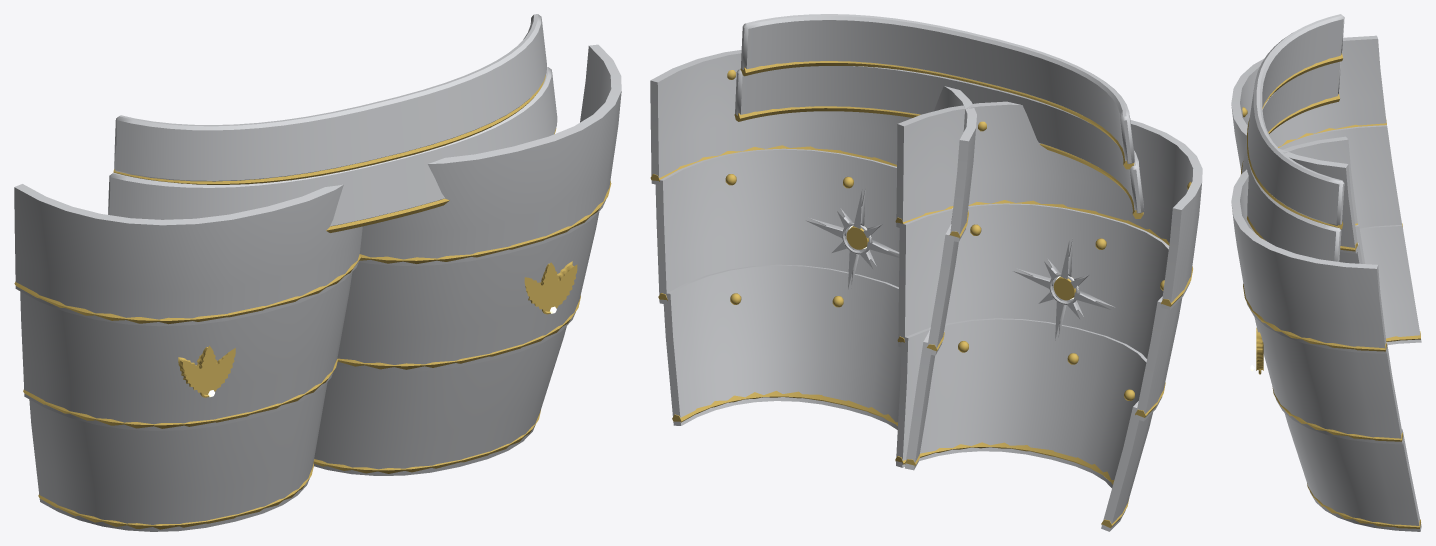
File: esc_final_dawn_executor_leggings.glb
The picture shows the model from 3 angles, left to right: view 1: azimuth 30°, elevation 25°; view 2: azimuth 150°, elevation 25°; view 3: azimuth 270°, elevation 25°; orthographic projection. The views are drawn at different scales.
Parts seen in each view (by area): view 1: AT_thigh_R, AT_thigh_L, esc_final_dawn_executor_leggings; view 2: AT_thigh_R, AT_thigh_L, esc_final_dawn_executor_leggings; view 3: AT_thigh_L, AT_thigh_R, esc_final_dawn_executor_leggings.
Boxes of the visible parts, x1,y1,x2,y2 form: AT_thigh_R: (14, 184, 362, 531); AT_thigh_L: (313, 44, 621, 475); esc_final_dawn_executor_leggings: (108, 14, 557, 232); AT_thigh_R: (895, 101, 1202, 531); AT_thigh_L: (650, 50, 976, 470); esc_final_dawn_executor_leggings: (734, 14, 1144, 340); AT_thigh_L: (1231, 136, 1421, 531); AT_thigh_R: (1231, 35, 1421, 344); esc_final_dawn_executor_leggings: (1241, 14, 1344, 261).
Size of the model in its own units: 0.5129 by 0.3481 by 0.177.
